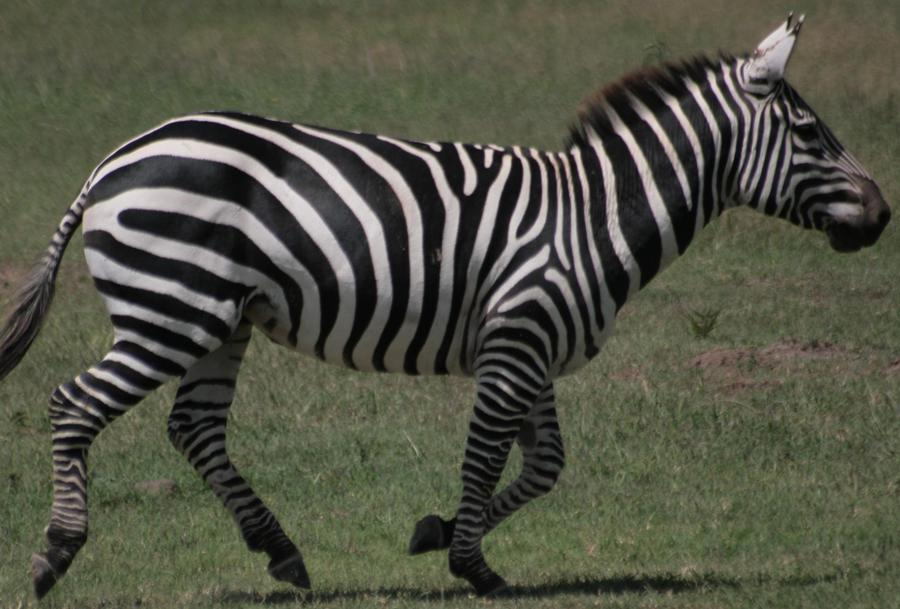zebra_plains: (94, 129, 604, 356)
